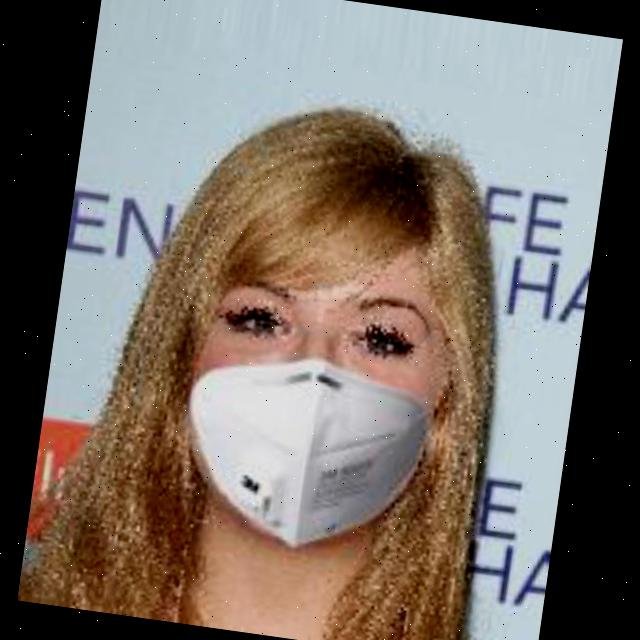suspicion: (148, 138, 510, 607)
